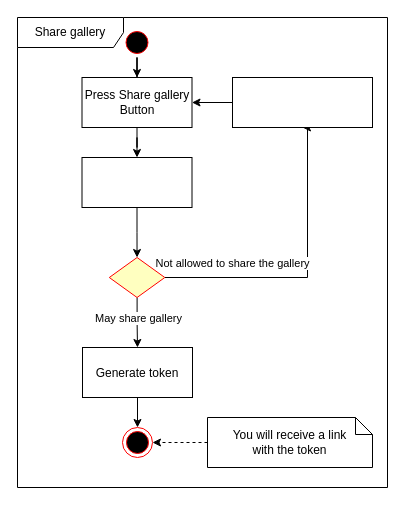
Some shapes in this 405 by 505 pixel diagram are drawn without their labels. Each missing label, with the centre of its shape:
"Show error message" belongs at point 302,102.
"Validate token/user" belongs at point 136,182.
